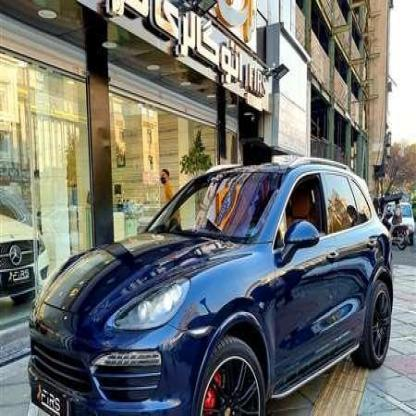Car: (31, 154, 394, 416), (0, 178, 49, 322), (382, 193, 416, 254)
